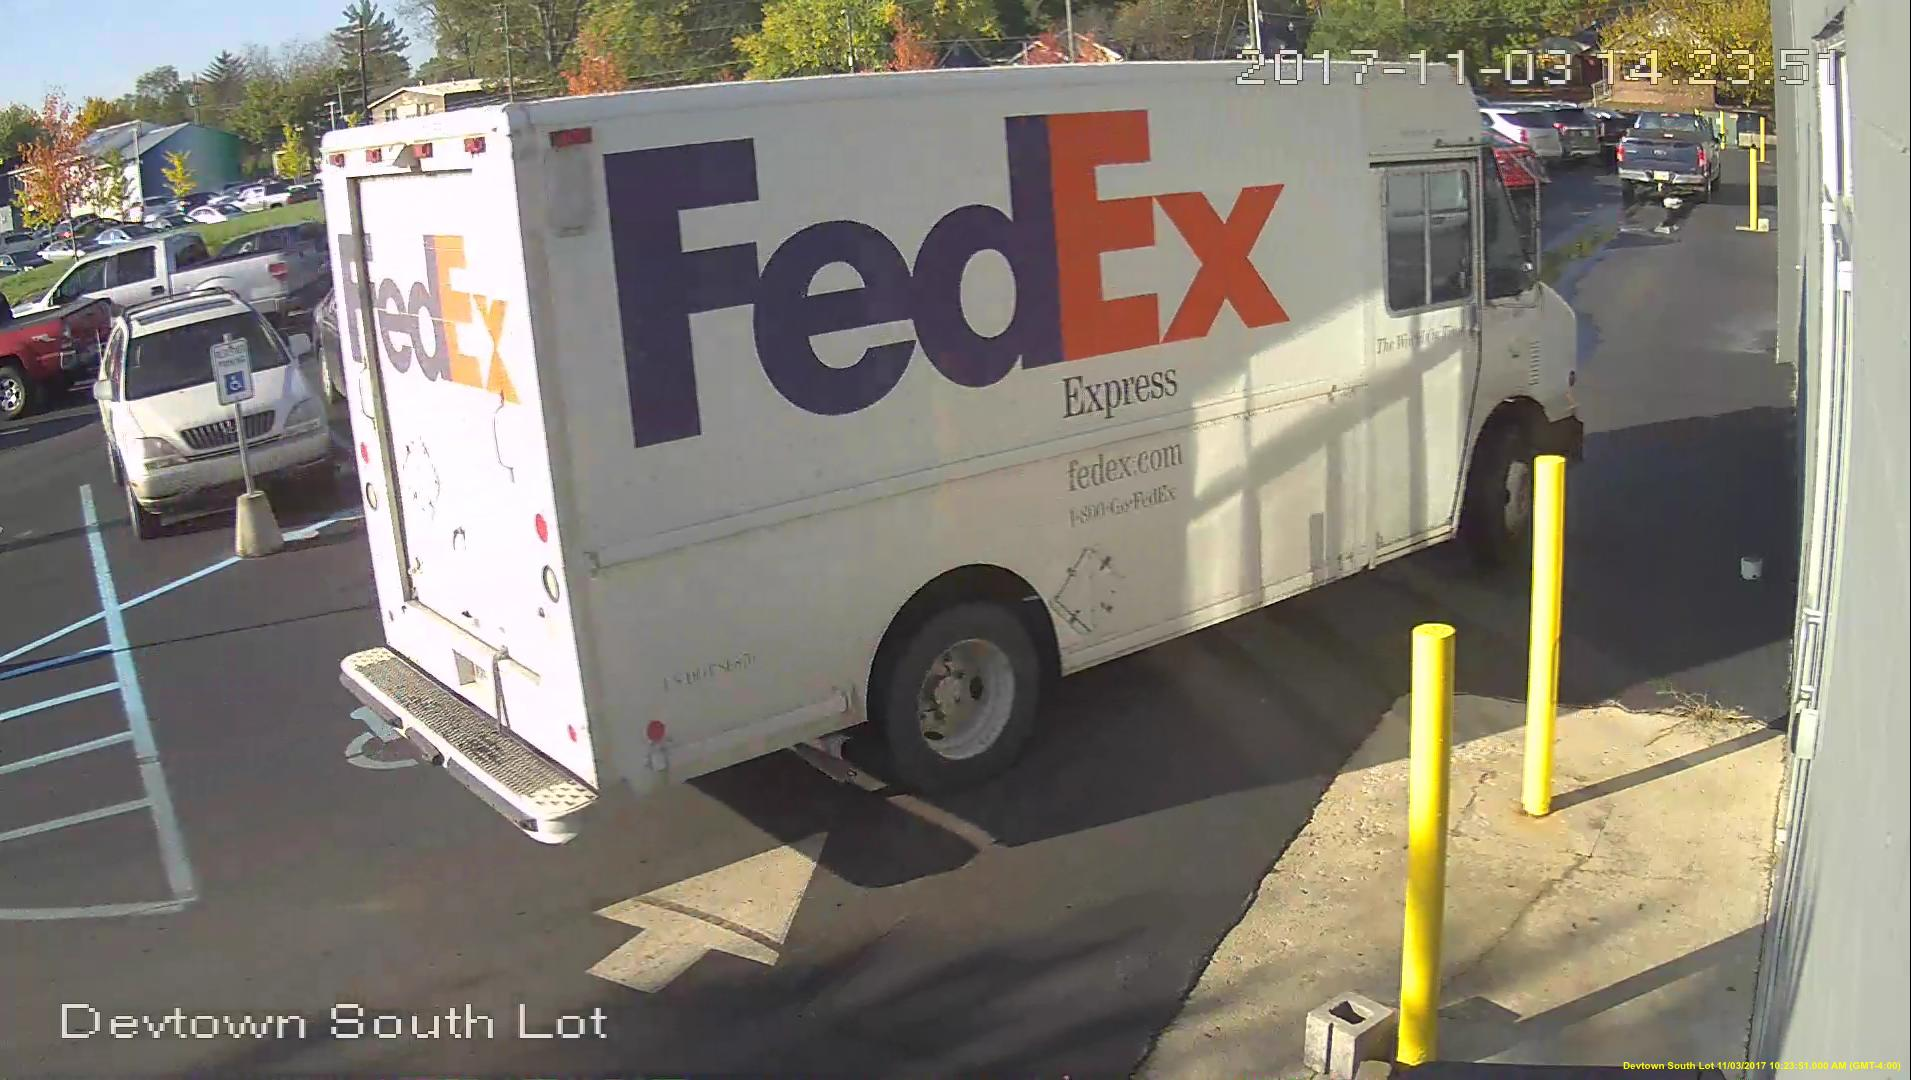fedex_truck: (343, 66, 1585, 846)
